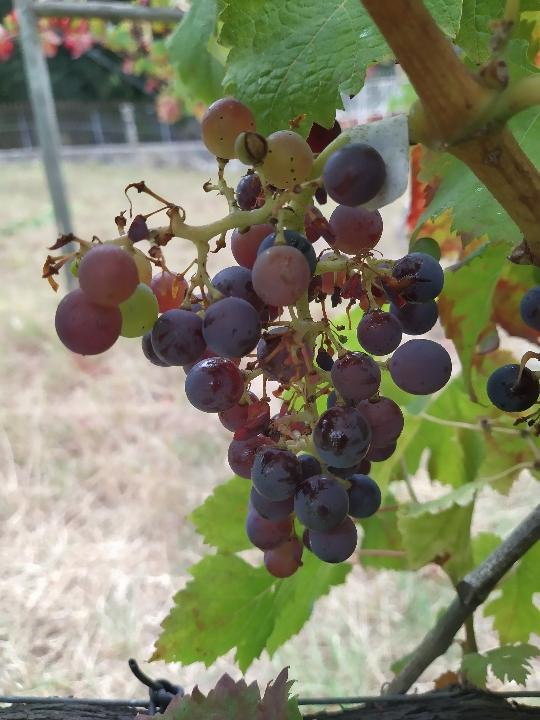grape: (51, 92, 460, 581)
